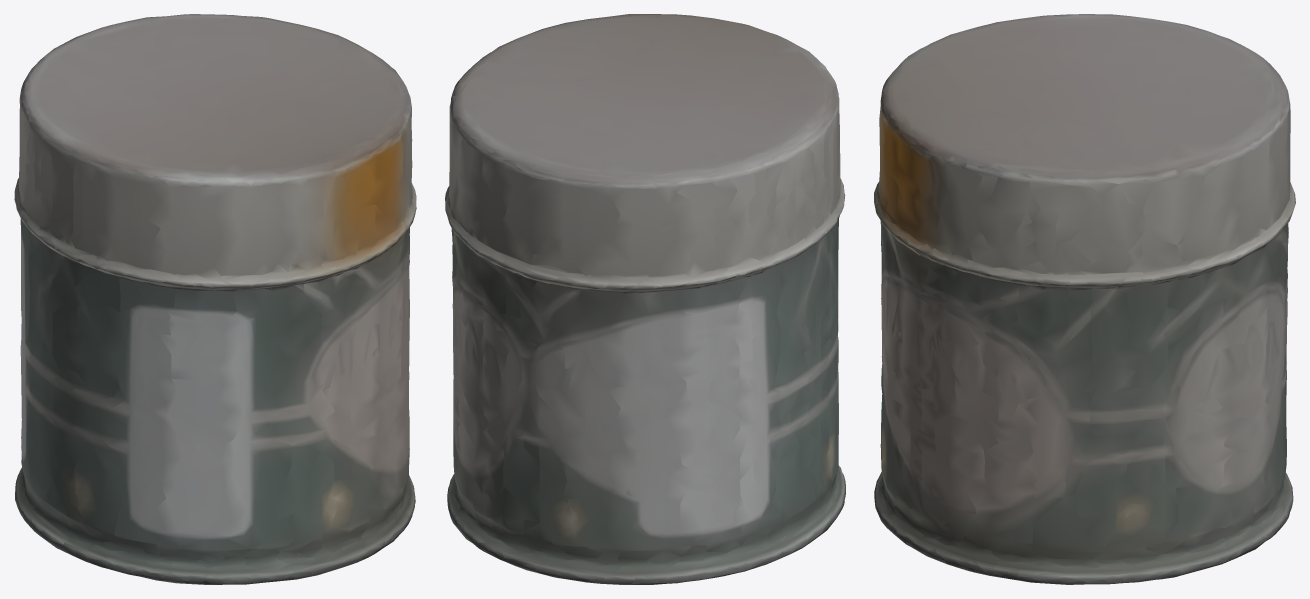
File: 0002_mask_003_small_jar.glb
3 views of the same model, side by side, from view 1: azimuth 30°, elevation 25°; view 2: azimuth 150°, elevation 25°; view 3: azimuth 270°, elevation 25° (orthographic).
Visible parts, largest first — view 1: mask_003_object; view 2: mask_003_object; view 3: mask_003_object.
Part boxes in pixels (x1,y1,x2,y2): mask_003_object: (14,14,416,584); mask_003_object: (445,14,845,584); mask_003_object: (874,14,1295,584).
Size of the model in its own units: 0.1177 by 0.1336 by 0.1237.
